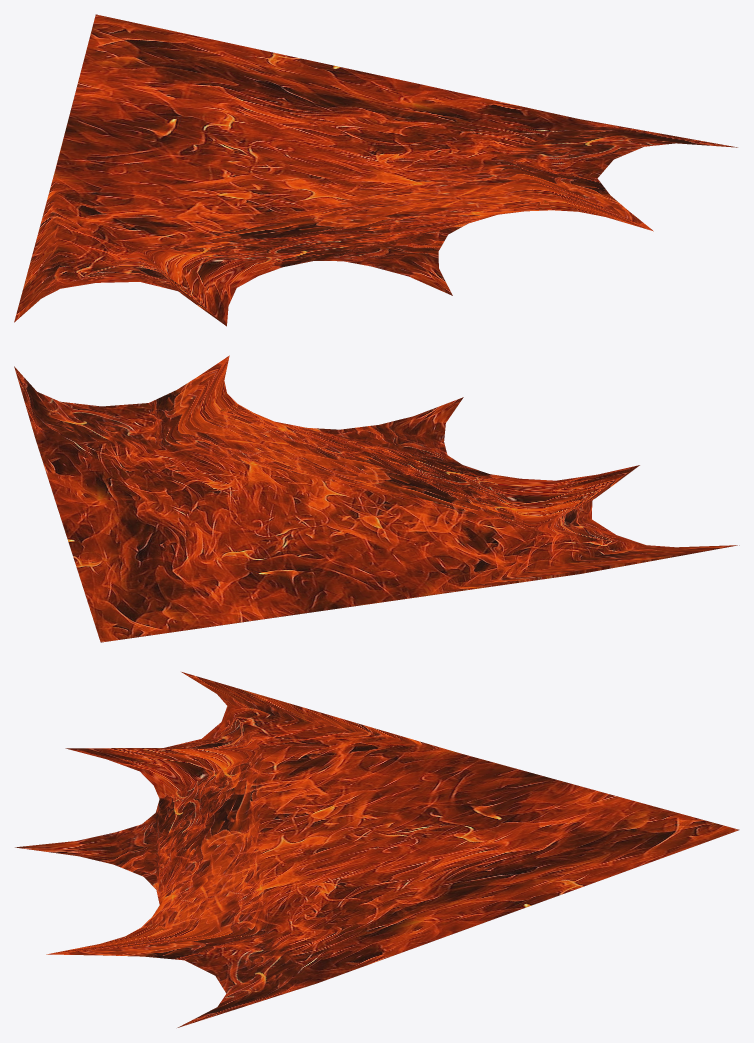
Rendered from kite.obj.
The picture shows the model from 3 angles, top to bottom: view 1: azimuth 30°, elevation 25°; view 2: azimuth 150°, elevation 25°; view 3: azimuth 270°, elevation 25°; orthographic projection.
Parts seen in each view (by area): view 1: Plane; view 2: Plane; view 3: Plane.
Part boxes in pixels (x1,y1,x2,y2): Plane: [14, 14, 737, 326]; Plane: [14, 355, 739, 642]; Plane: [15, 672, 739, 1027].
Size of the model in its own units: 4.19 by 0.1013 by 3.6.
